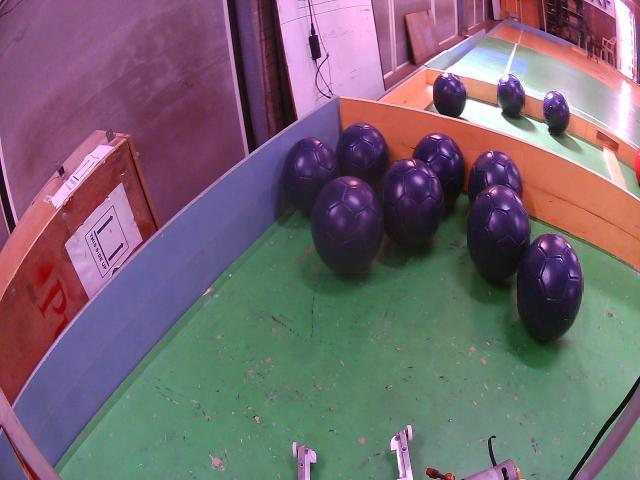kaalyya: (311, 177, 384, 273), (517, 234, 583, 340), (467, 185, 530, 281), (379, 158, 444, 247), (281, 137, 340, 213), (413, 133, 465, 206), (336, 123, 389, 187), (468, 152, 523, 204), (433, 72, 467, 118), (543, 92, 570, 134), (497, 75, 524, 116)
